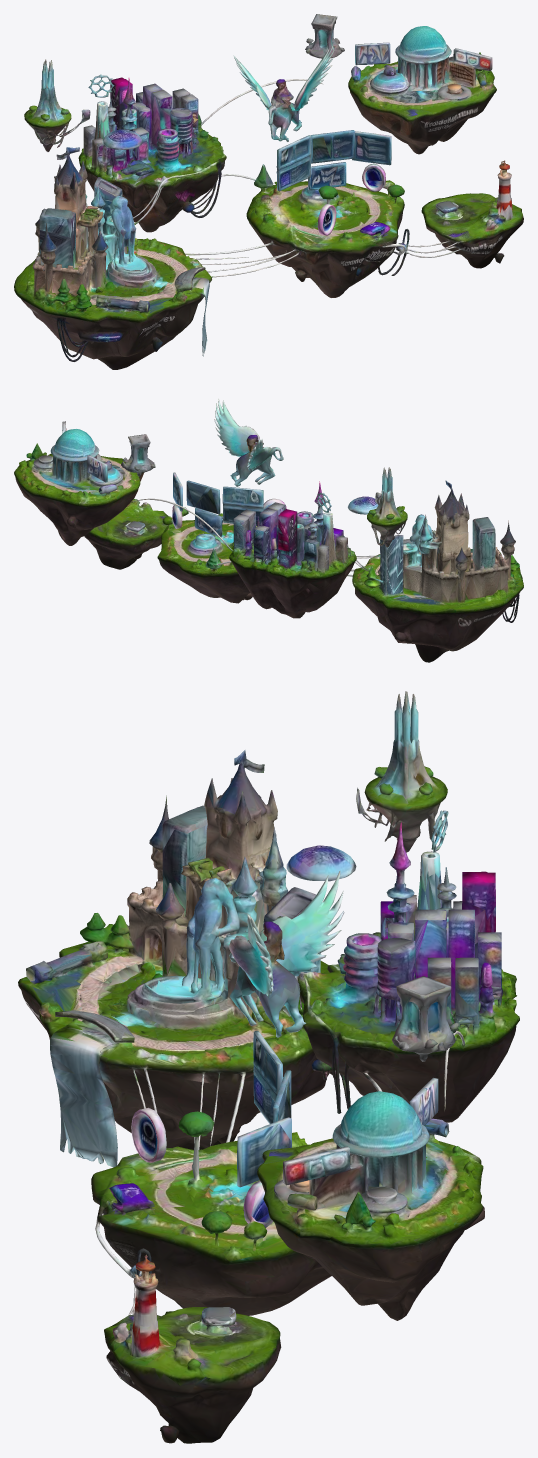
File: Archipelago_of_Innova.glb
3 views of the same model, one above another, from view 1: azimuth 30°, elevation 25°; view 2: azimuth 150°, elevation 25°; view 3: azimuth 270°, elevation 25° (orthographic). The views are drawn at different scales.
Parts seen in each view (by area): view 1: Archipelago_of_Innova; view 2: Archipelago_of_Innova; view 3: Archipelago_of_Innova.
Boxes of the visible parts, x1,y1,x2,y2 form: Archipelago_of_Innova: (14,14,523,369); Archipelago_of_Innova: (14,399,523,662); Archipelago_of_Innova: (18,691,519,1443).
Size of the model in its own units: 1.9 by 0.9447 by 0.9236.
Materials: 1 (1 with a texture image).
